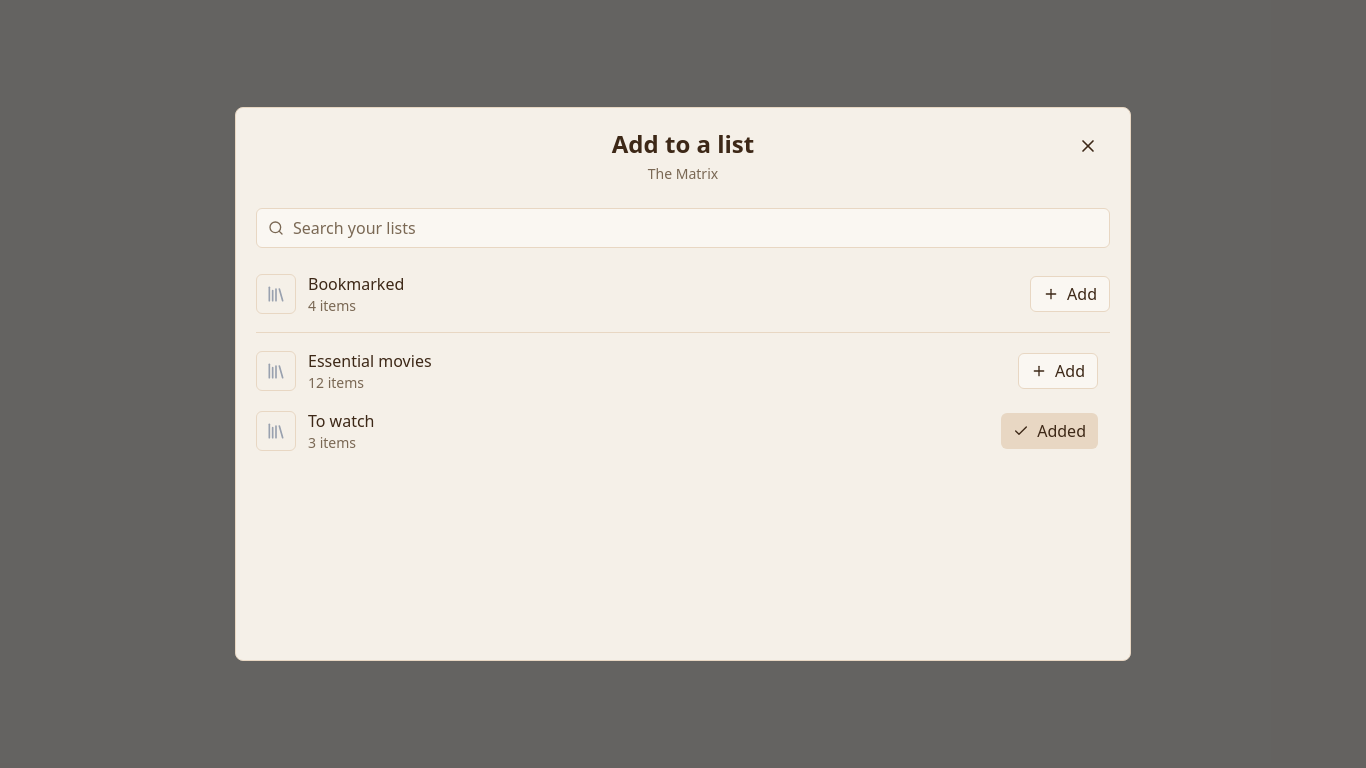
AddToListModal › filters the lists by name
This screenshot has width=1366, height=768.
Expected: the text "Essential movies" is shown, [308, 349, 432, 373]
Type "essential" into the field with placeholder "Search your lists".
click(683, 228); type("essential")  # box [256, 208, 1110, 248]
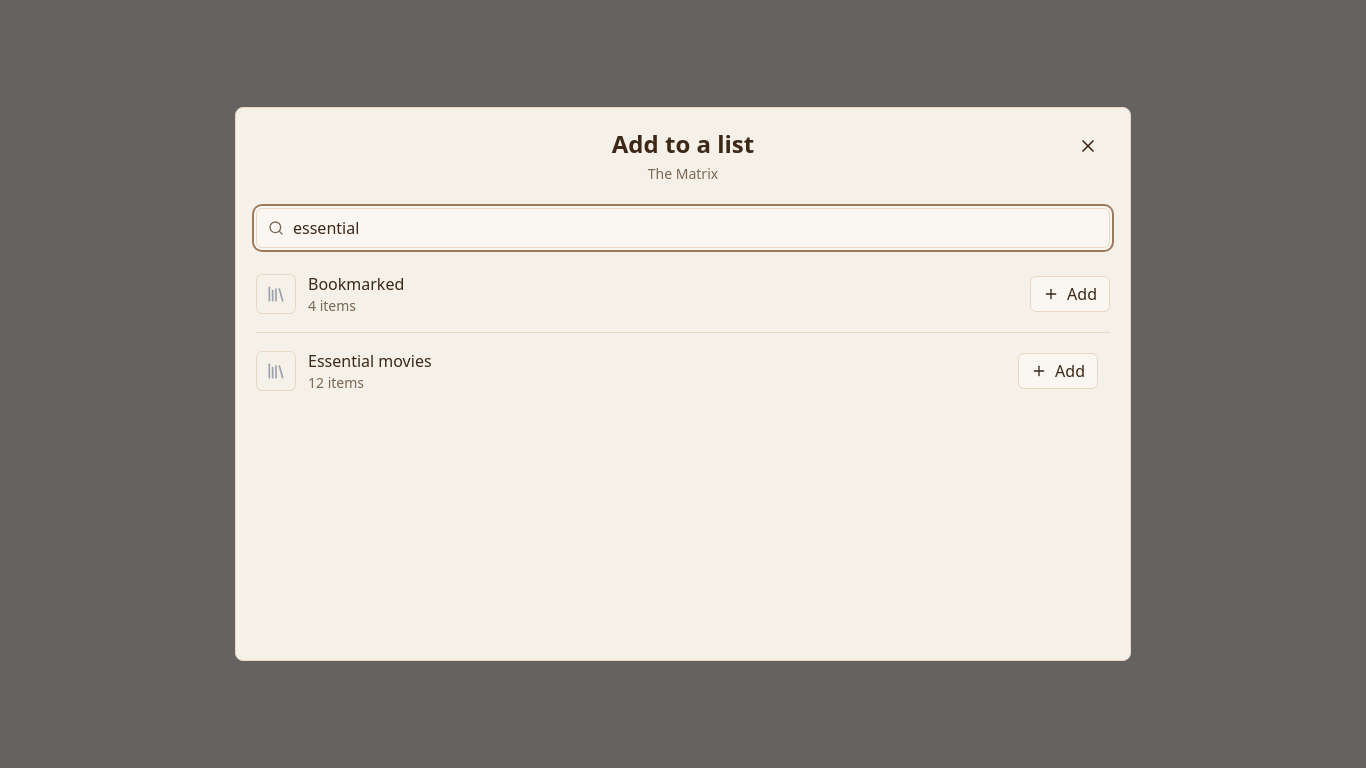
Expected: the text "Essential movies" is shown, [308, 349, 432, 373]
Now the button "To watch" is gone
